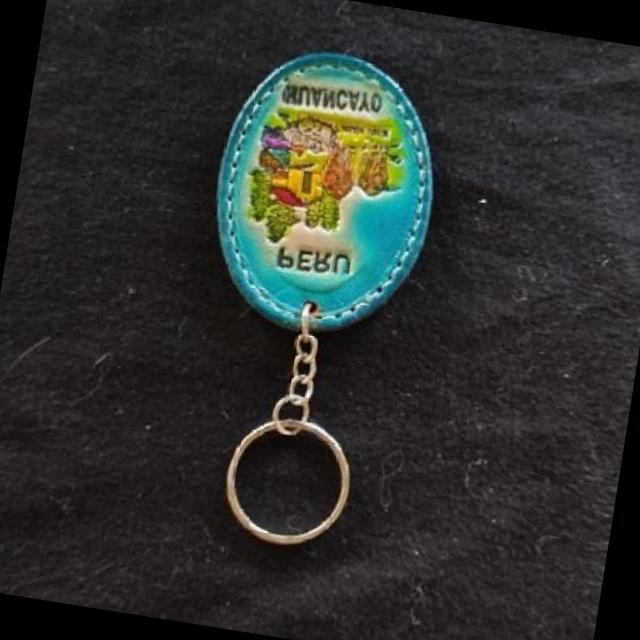Llavero: (195, 37, 454, 349)
